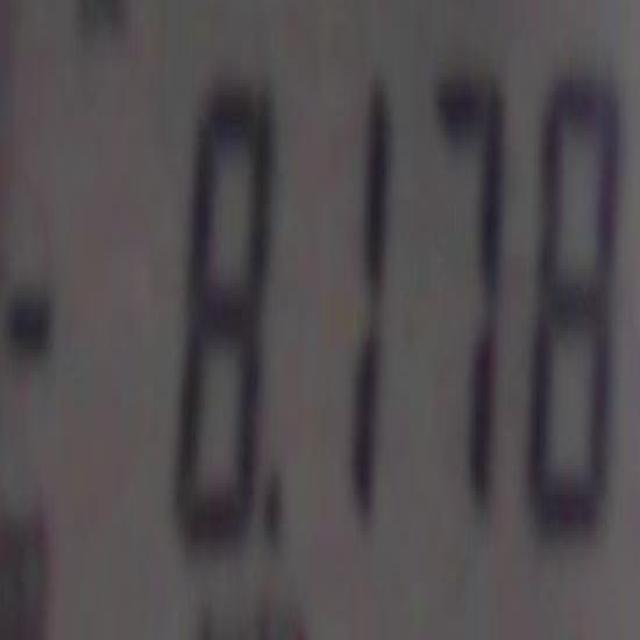.: (7, 285, 53, 356), (263, 477, 283, 547)
1: (351, 69, 391, 520)
7: (433, 68, 505, 517)
8: (176, 81, 275, 545), (528, 70, 621, 534)
